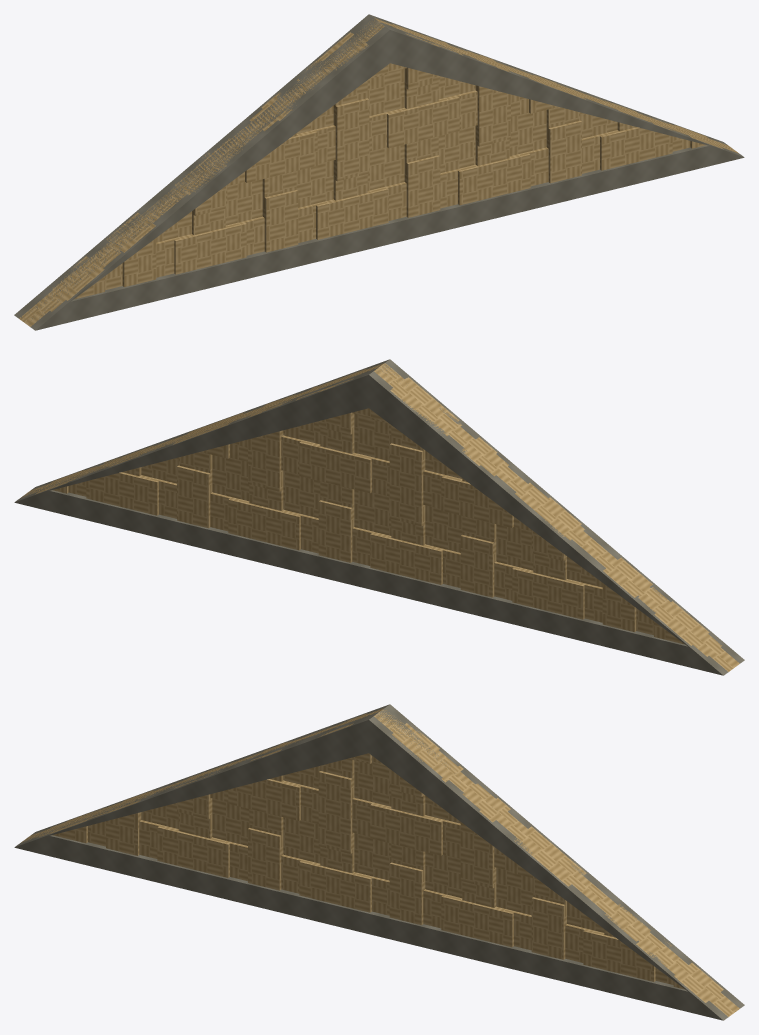
Rendered from MRP_Gable_Bamboo_2m.fbx.
3 renders of one model, top to bottom at view 1: azimuth 30°, elevation 25°; view 2: azimuth 150°, elevation 25°; view 3: azimuth 330°, elevation 25°, orthographic.
Visible parts, largest first — view 1: Body; view 2: Body; view 3: Body.
Part boxes in pixels (bbox=[...]): Body: bbox=[14, 14, 744, 330]; Body: bbox=[14, 359, 744, 675]; Body: bbox=[14, 704, 744, 1020].
Bounding box in the file's own units: 2 × 0.5774 × 0.104.
